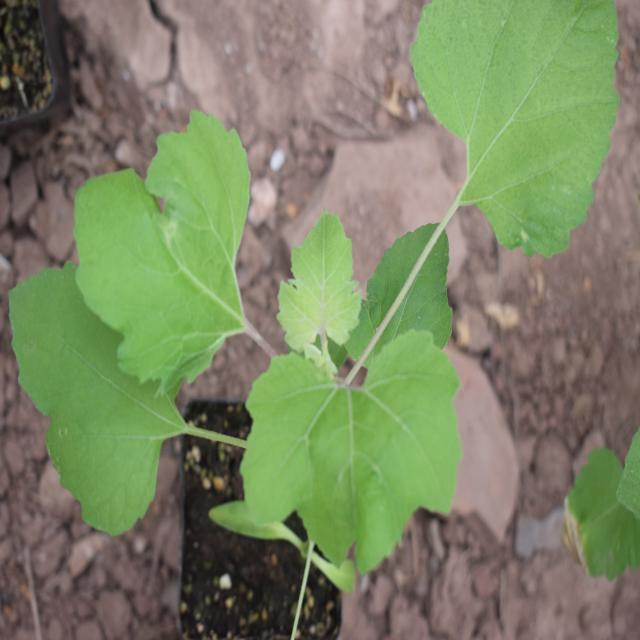cocklebur: (47, 57, 593, 510)
